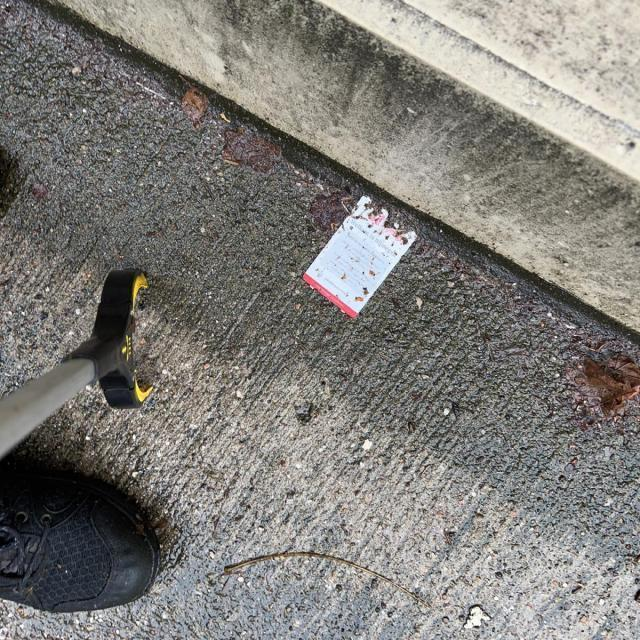Paper: (300, 194, 418, 319)
